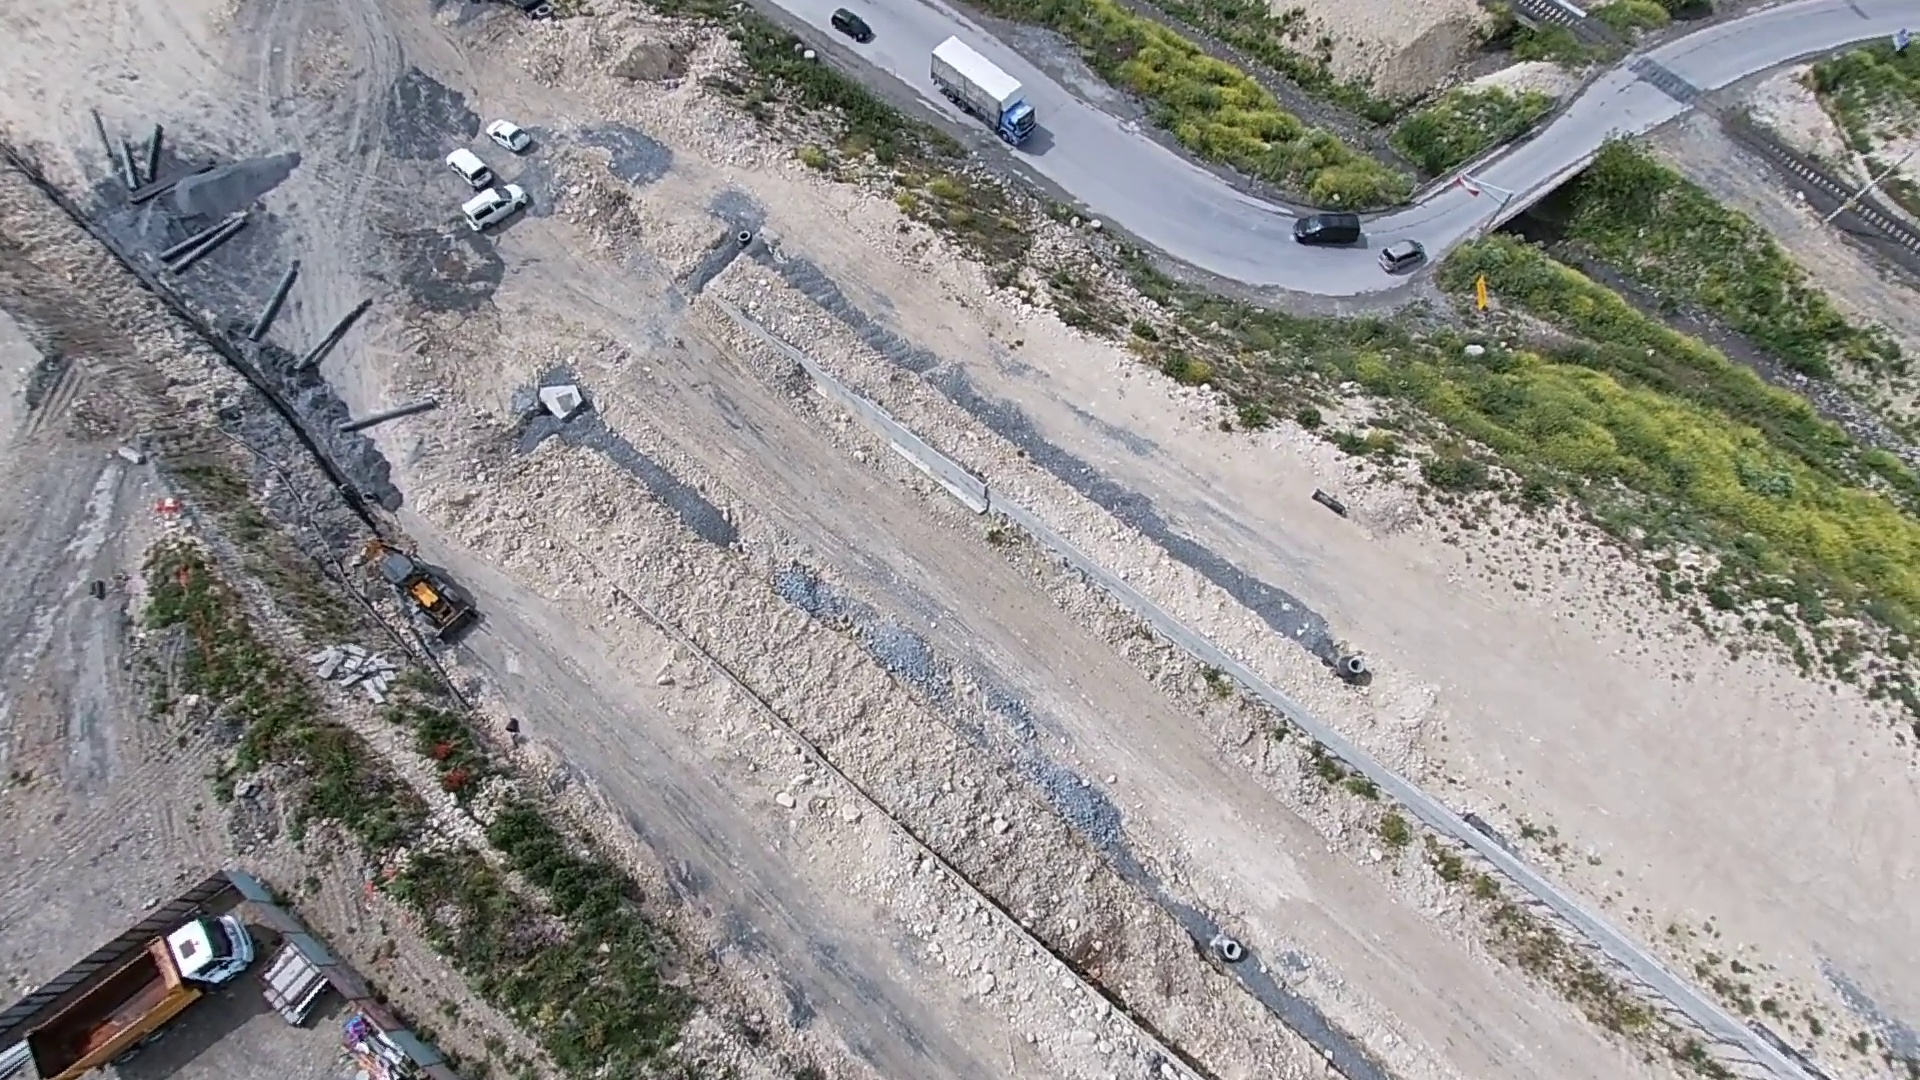araba: (460, 170, 534, 233), (1294, 204, 1369, 252), (436, 146, 505, 196), (1373, 239, 1437, 282), (480, 119, 543, 160), (825, 4, 886, 44)
kamyon: (25, 901, 256, 1080), (922, 29, 1043, 158)
traktor: (375, 526, 495, 649)
